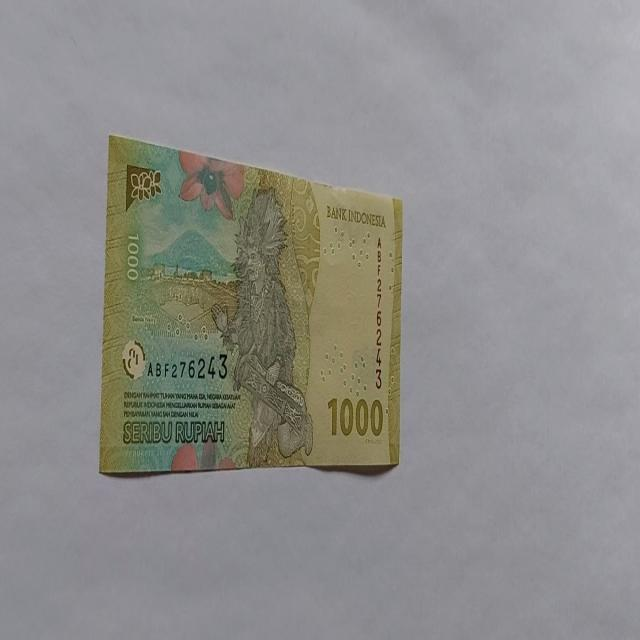seribu rupiah kertas: (99, 132, 404, 476)
